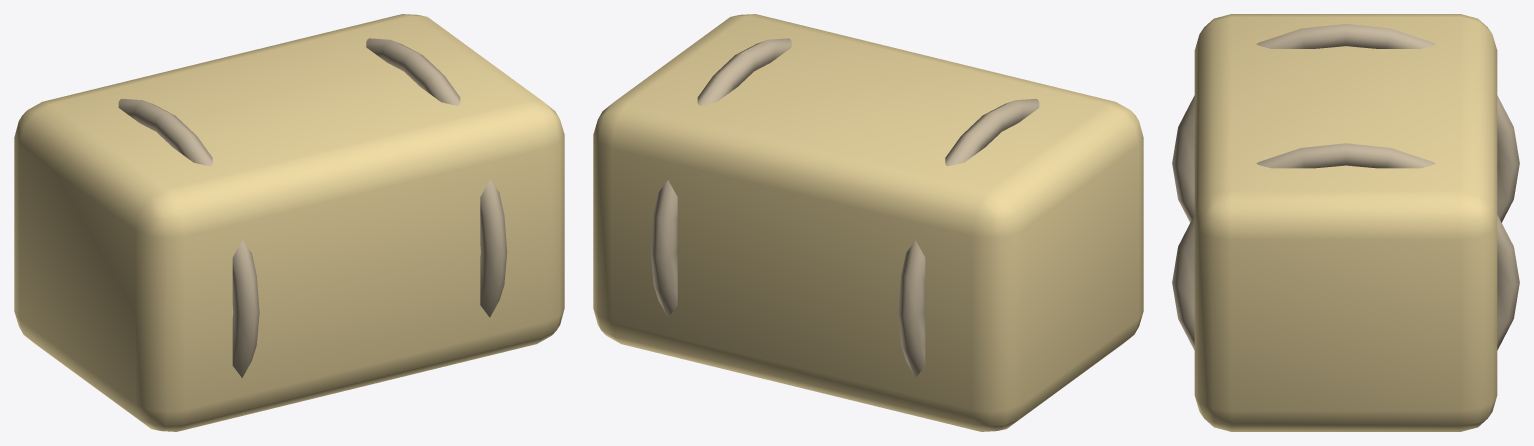
Rendered from hay-carried.glb.
3 views of the same model, side by side, from view 1: azimuth 30°, elevation 25°; view 2: azimuth 150°, elevation 25°; view 3: azimuth 270°, elevation 25° (orthographic).
Visible parts, largest first — view 1: Portable tied bale, Bale binding, Bale binding.001; view 2: Portable tied bale, Bale binding, Bale binding.001; view 3: Portable tied bale, Bale binding.001, Bale binding.
Boxes of the visible parts, box(x1,y1,x2,y2) form: Portable tied bale: box(14, 14, 564, 431); Bale binding: box(118, 98, 259, 377); Bale binding.001: box(366, 38, 507, 317); Portable tied bale: box(593, 14, 1143, 431); Bale binding: box(898, 98, 1039, 377); Bale binding.001: box(650, 38, 791, 317); Portable tied bale: box(1194, 14, 1497, 431); Bale binding.001: box(1172, 143, 1519, 350); Bale binding: box(1172, 24, 1519, 222).
Bounding box in the file's own units: 0.96 × 0.61 × 0.6893.
